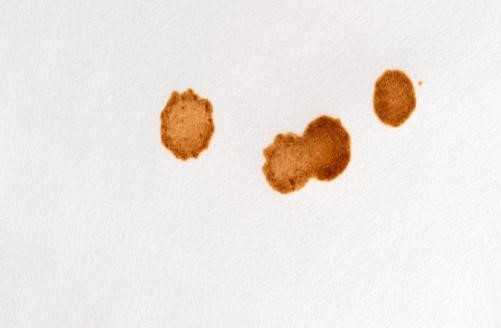stain: (257, 112, 354, 196), (154, 84, 219, 163), (368, 66, 422, 130)
